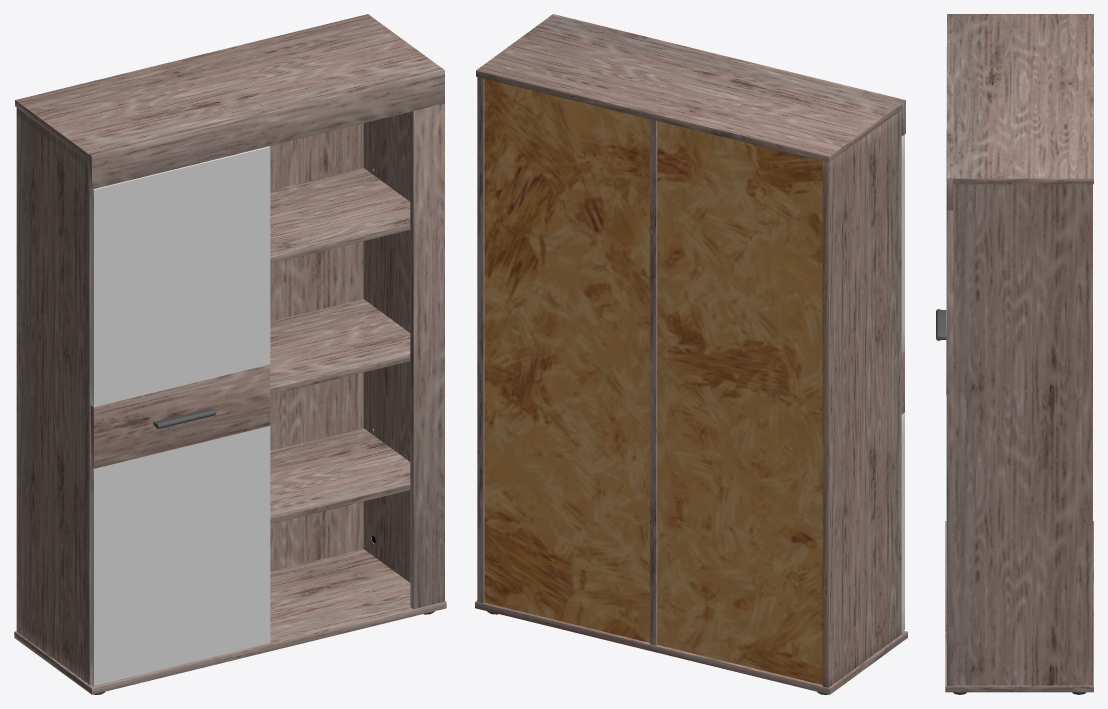
The model's file is wooden_cupboard_with_door.glb.
3 renders of one model, left to right at view 1: azimuth 30°, elevation 25°; view 2: azimuth 150°, elevation 25°; view 3: azimuth 270°, elevation 25°, orthographic. The views are drawn at different scales.
Visible parts, largest first — view 1: #CPB0001_Wood_Gray_133x90x34_Door_Left_0, #CPB0001_Door_1; view 2: #CPB0001_Wood_Gray_133x90x34_Door_Left_0, #CPB0001_Door_1; view 3: #CPB0001_Wood_Gray_133x90x34_Door_Left_0, #CPB0001_Door_1.
Part boxes in pixels (x1,y1,x2,y2): #CPB0001_Wood_Gray_133x90x34_Door_Left_0: [14, 14, 446, 694]; #CPB0001_Door_1: [90, 146, 270, 685]; #CPB0001_Wood_Gray_133x90x34_Door_Left_0: [475, 14, 907, 694]; #CPB0001_Door_1: [901, 134, 904, 631]; #CPB0001_Wood_Gray_133x90x34_Door_Left_0: [945, 14, 1093, 694]; #CPB0001_Door_1: [936, 47, 946, 602].
Size of the model in its own units: 0.9047 by 1.33 by 0.3653.
Materials: 1 (1 with a texture image).
